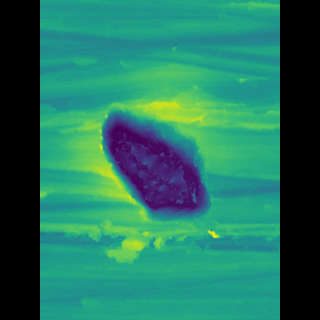Loch: (68, 0, 250, 83), (112, 99, 200, 233), (69, 222, 249, 262)
